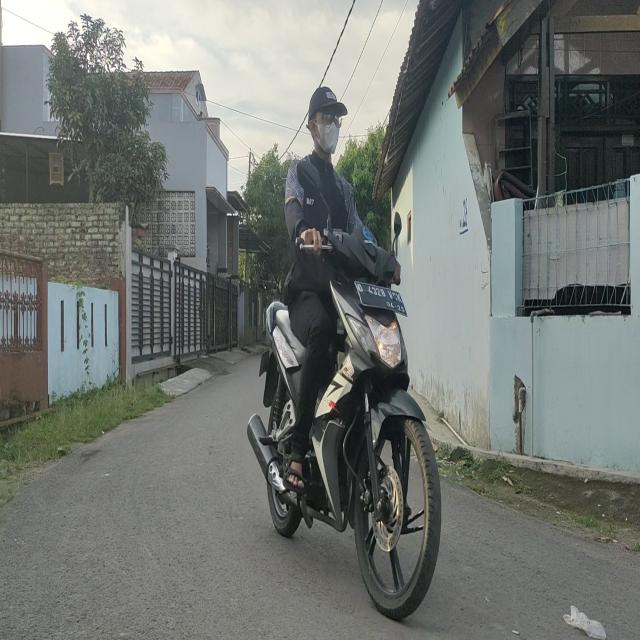no-helmet: (307, 85, 347, 159)
